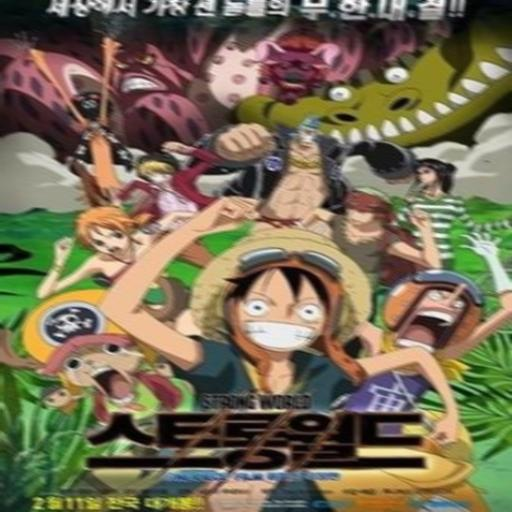Luffy: (183, 232, 376, 361)
Nami: (72, 200, 159, 270)
NicoRobin: (400, 156, 465, 198)
Usopp: (378, 265, 494, 361)
Zoro: (340, 176, 402, 230)
sanji: (136, 157, 186, 190)
